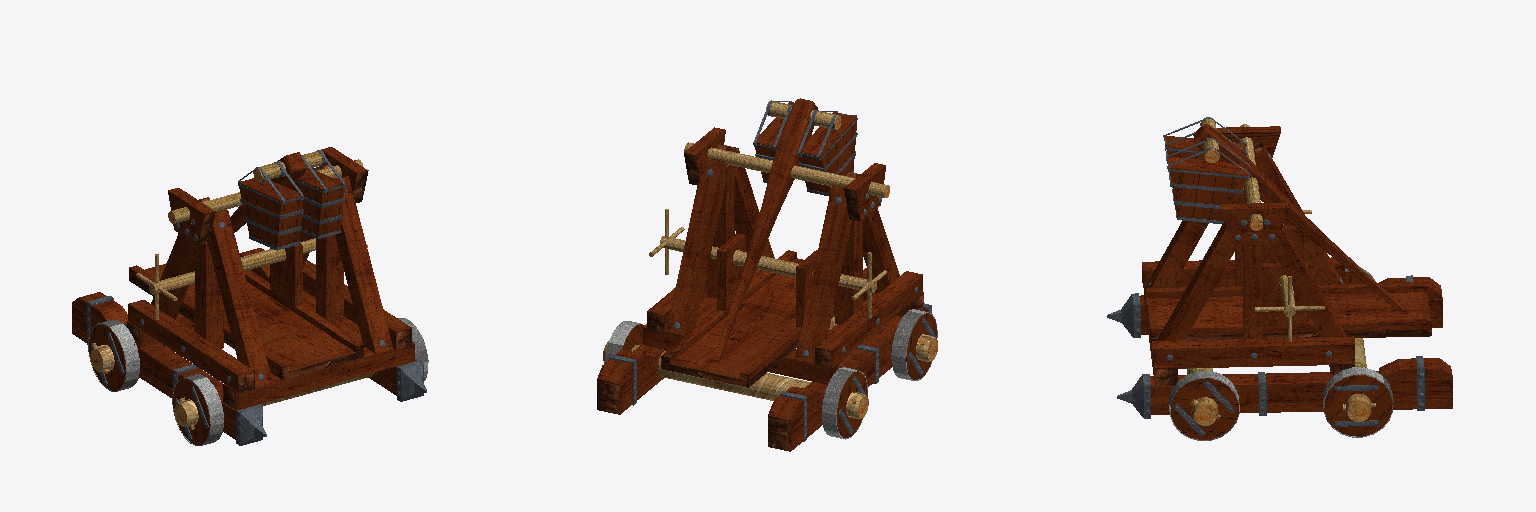
3 renders of one model, left to right at view 1: azimuth 30°, elevation 25°; view 2: azimuth 150°, elevation 25°; view 3: azimuth 270°, elevation 25°, orthographic.
Visible parts, largest first — view 1: BODY, BODY Throw Buckets, BODY FrontAxil Rfwheel, BODY RearAxil RrWheel, BODY Crank, BODY Pivot, BODY FrontAxil, BODY Throw; view 2: BODY, BODY Throw Buckets, BODY Throw, BODY Crank, BODY RearAxil, BODY FrontAxil Rfwheel, BODY RearAxil RrWheel, BODY Pivot, BODY RearAxil LrWheel; view 3: BODY, BODY Throw Buckets, BODY FrontAxil Ffwheel, BODY RearAxil LrWheel, BODY Throw, BODY RearAxil, BODY Crank, BODY Pivot, BODY FrontAxil.
Part boxes in pixels (x1,y1,x2,y2): BODY: (72,147,426,445); BODY Throw Buckets: (238,150,345,250); BODY FrontAxil Rfwheel: (172,374,223,445); BODY RearAxil RrWheel: (88,320,139,391); BODY Crank: (136,238,367,319); BODY Pivot: (168,159,362,223); BODY FrontAxil: (174,372,376,426); BODY Throw: (230,152,306,232); BODY: (597,127,931,451); BODY Throw Buckets: (753,100,857,195); BODY Throw: (714,98,817,361); BODY Crank: (649,209,886,318); BODY RearAxil: (603,341,868,418); BODY FrontAxil Rfwheel: (891,309,937,380); BODY RearAxil RrWheel: (822,367,867,439); BODY Pivot: (684,142,889,197); BODY RearAxil LrWheel: (604,321,644,363); BODY: (1107,126,1452,418); BODY Throw Buckets: (1163,117,1250,223); BODY FrontAxil Ffwheel: (1169,371,1239,440); BODY RearAxil LrWheel: (1323,367,1393,437); BODY Throw: (1193,124,1402,310); BODY RearAxil: (1346,338,1371,421); BODY Crank: (1255,210,1324,341); BODY Pivot: (1240,124,1262,230); BODY FrontAxil: (1186,368,1218,425).
Size of the model in its own units: 22.84 by 22 by 26.78.
7 materials, 7 textured.